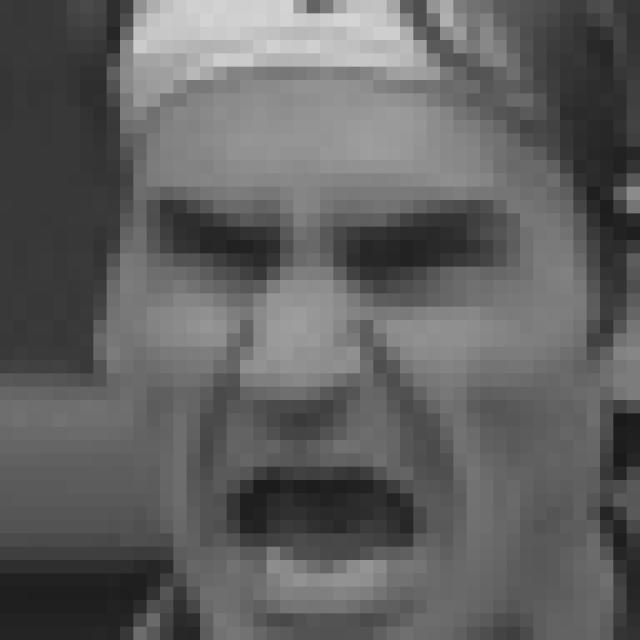angry: (146, 188, 515, 638)
